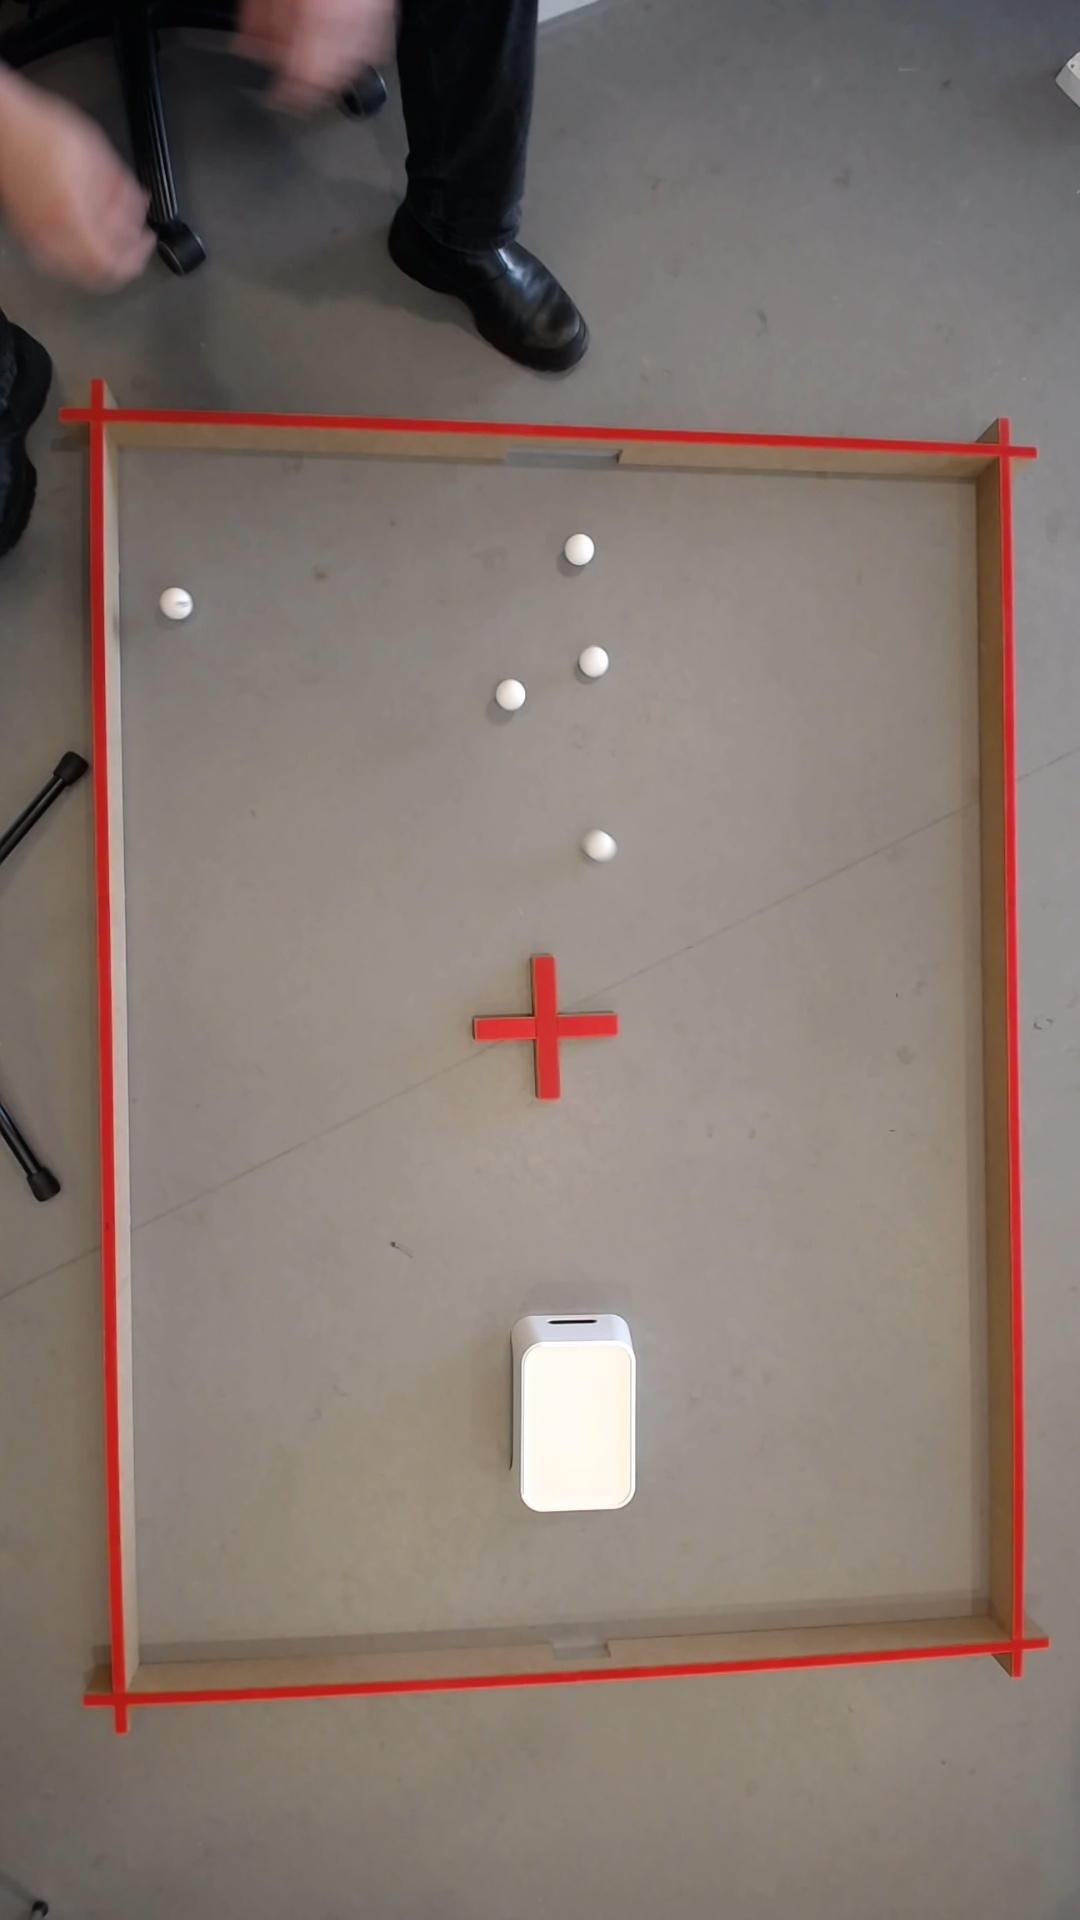balls: (579, 642, 613, 678), (496, 676, 530, 711), (162, 585, 196, 618), (588, 829, 618, 860), (570, 534, 593, 564)
car: (629, 1360, 632, 1487)
